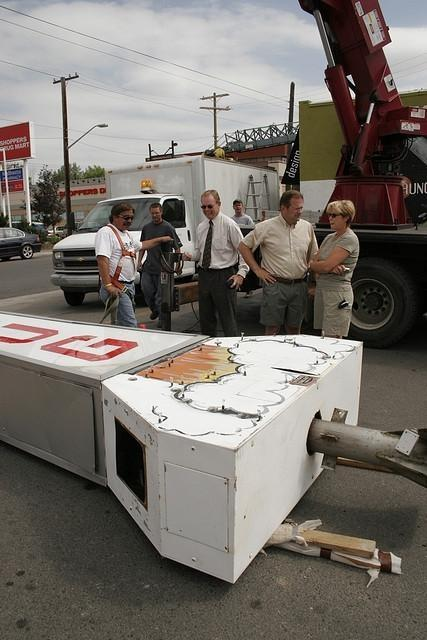car: (0, 227, 42, 261), (45, 225, 69, 238)
truck: (299, 2, 427, 346), (53, 149, 284, 306), (50, 154, 280, 306)
